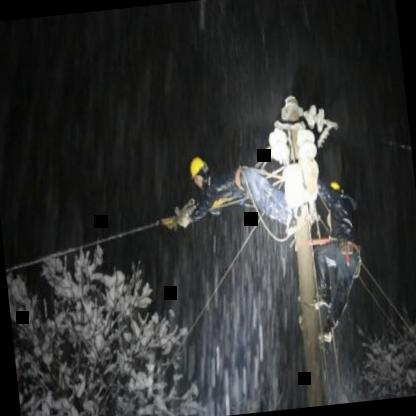helmet: (185, 152, 216, 192), (324, 176, 346, 210)
